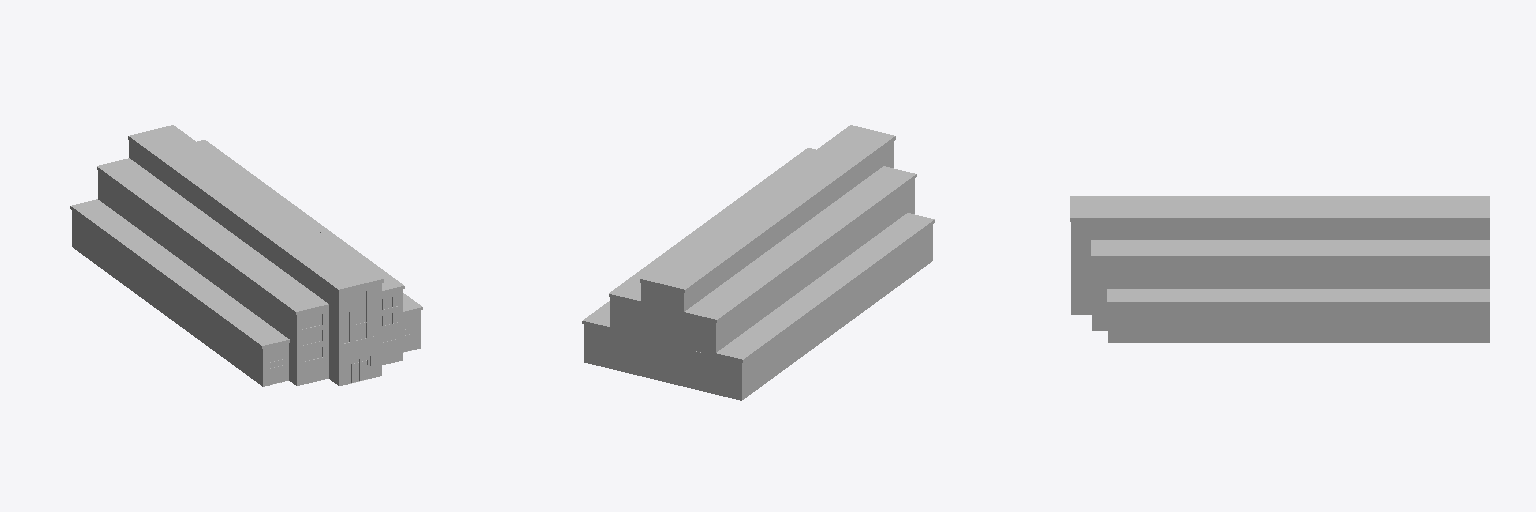
File: Escola.obj
The picture shows the model from 3 angles: view 1: azimuth 30°, elevation 25°; view 2: azimuth 150°, elevation 25°; view 3: azimuth 270°, elevation 25°; orthographic projection.
Parts seen in each view (by area): view 1: Cube.001_Cube.006; view 2: Cube.001_Cube.006; view 3: Cube.001_Cube.006.
Boxes of the visible parts, x1=… form: Cube.001_Cube.006: x1=70, y1=125, x2=422, y2=386; Cube.001_Cube.006: x1=582, y1=125, x2=934, y2=400; Cube.001_Cube.006: x1=1070, y1=196, x2=1489, y2=342.
Bounding box in the file's own units: 32 × 18.54 × 72.58.